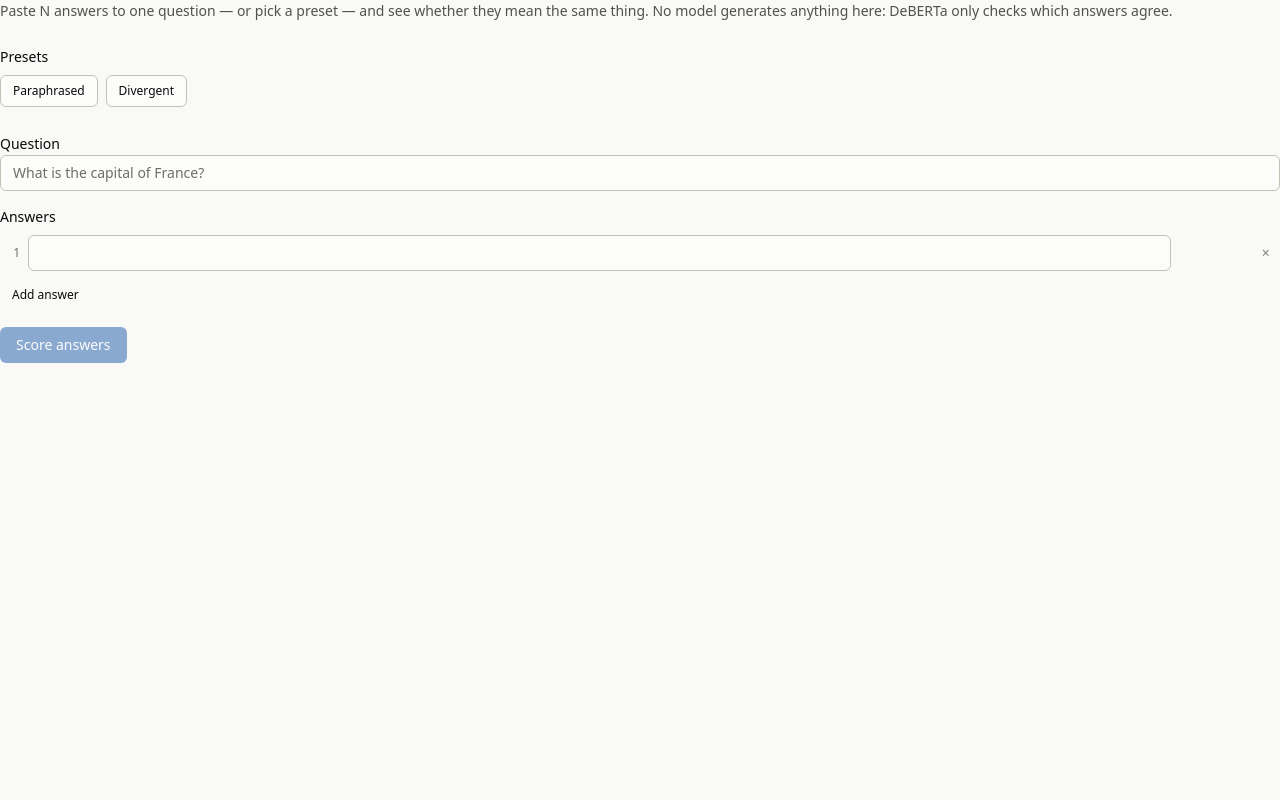
Test: ScoreTab › asks for the SE trace and replays the clustering one comparison at a time
Click the button "divergent" at (146, 91), box [106,75,187,107]
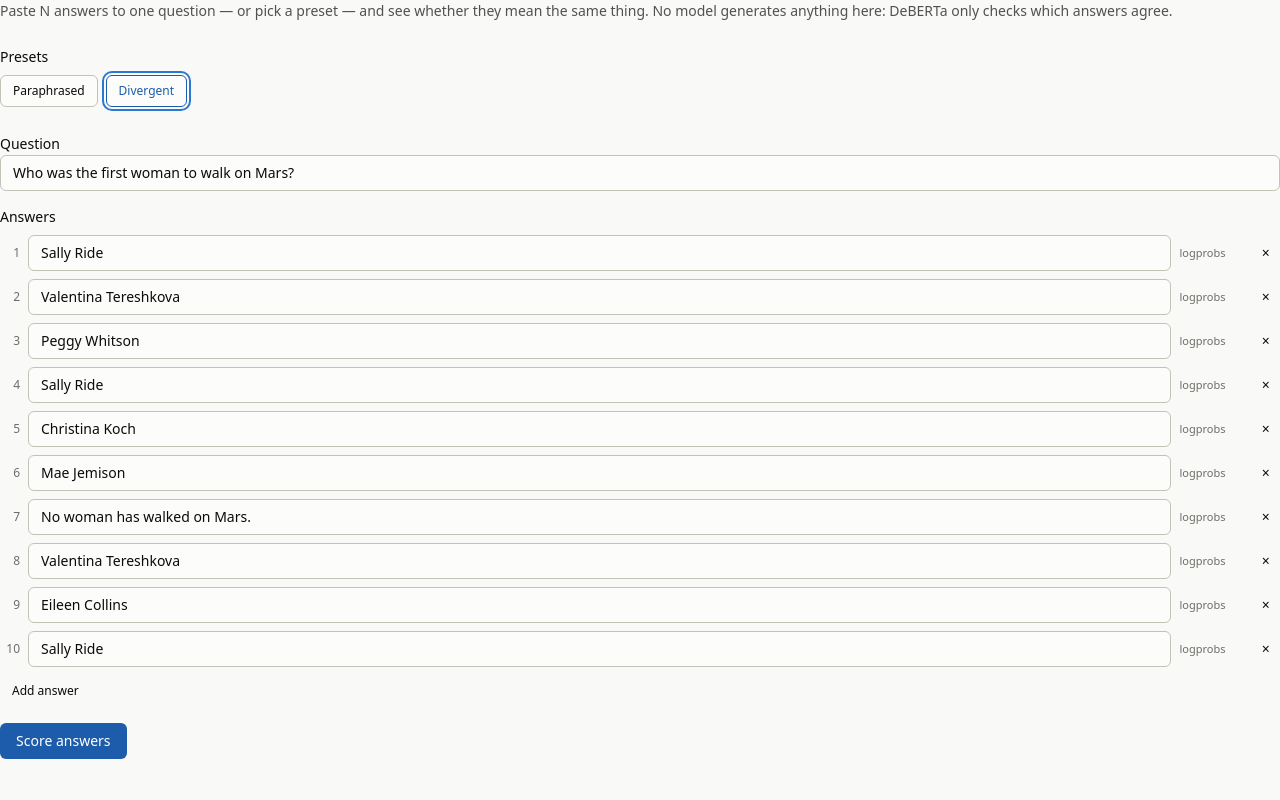
Click the button "Score answers" at (63, 741), box [0,723,126,759]
(page scrolled)
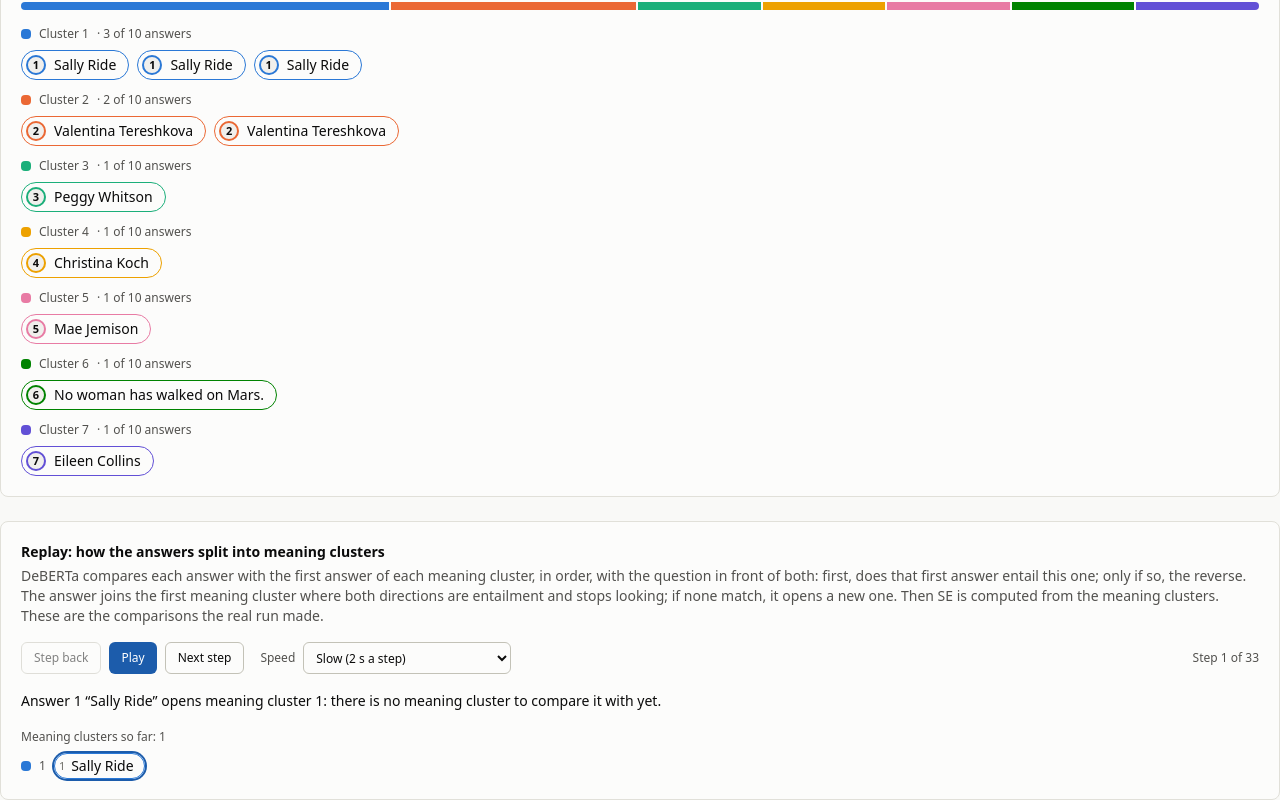
Expected: the text "Step 1 of 33" is shown, [1192,650,1259,666]
Click the button "Next step" at (205, 658), box [165,642,244,674]
(page scrolled)
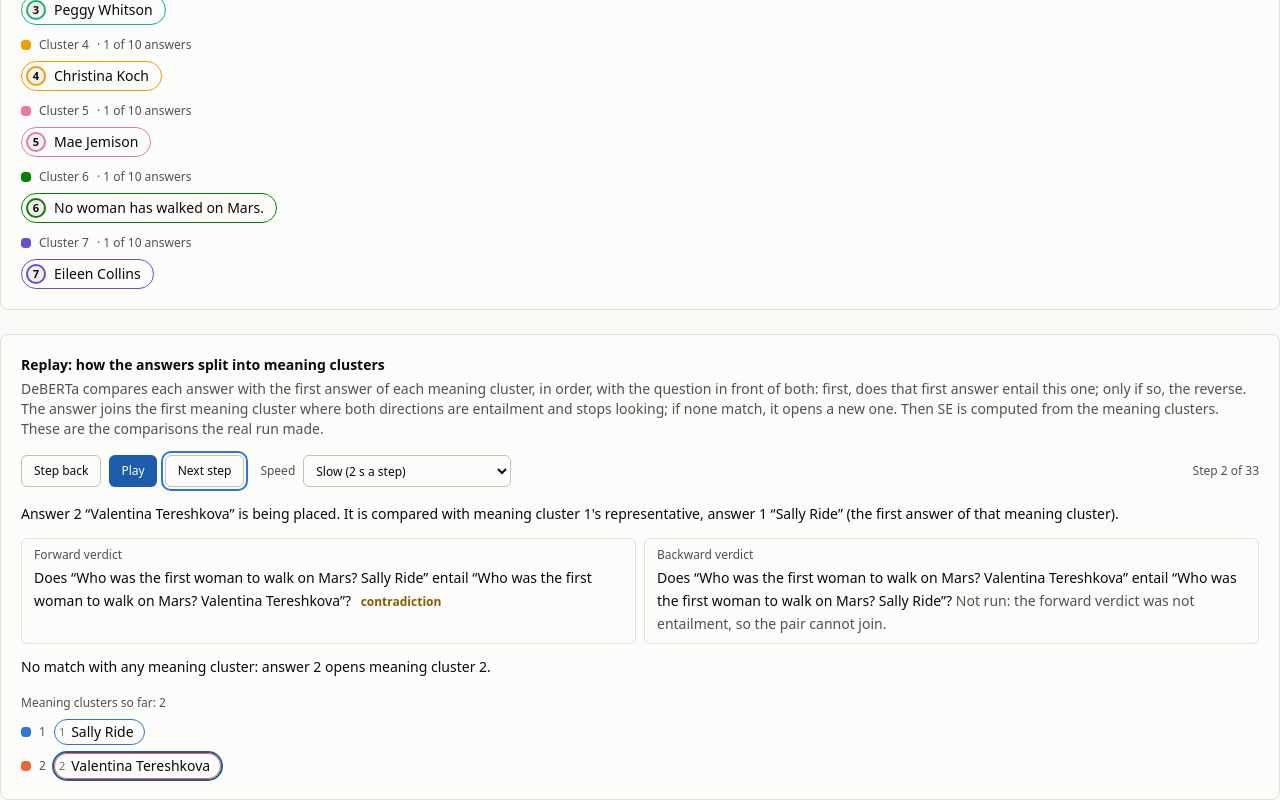
Expected: the element named "Current step" shows "Who was the first woman to walk on Mars? Valentina Tereshkova", [34,568,592,610]
